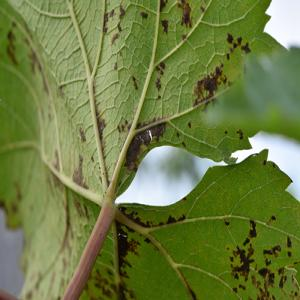Fungo: (122, 30, 251, 176), (228, 218, 299, 300), (191, 31, 251, 110), (124, 119, 165, 175), (92, 77, 109, 187), (192, 60, 227, 110), (103, 3, 125, 46), (230, 244, 254, 281), (124, 133, 144, 174), (225, 31, 251, 60), (72, 153, 89, 189), (177, 0, 193, 28), (6, 29, 18, 66), (263, 244, 281, 266), (147, 122, 166, 142), (242, 220, 257, 245), (154, 61, 166, 92), (192, 78, 205, 105), (215, 60, 228, 87), (102, 8, 115, 34), (203, 74, 217, 96), (110, 22, 122, 46), (139, 128, 152, 147), (117, 118, 128, 132), (249, 220, 257, 238), (155, 61, 165, 75), (251, 273, 260, 288), (286, 235, 292, 257), (241, 41, 251, 54), (78, 126, 86, 142), (267, 269, 275, 285), (265, 214, 276, 225), (258, 266, 268, 278), (161, 18, 168, 34), (110, 32, 118, 46), (278, 274, 286, 288), (103, 12, 108, 34), (263, 244, 272, 256), (247, 243, 254, 257), (118, 4, 125, 18), (226, 32, 234, 44), (236, 128, 244, 140), (132, 75, 138, 90), (155, 76, 161, 91), (160, 0, 167, 12), (242, 236, 250, 246), (286, 236, 292, 248), (264, 256, 271, 266), (215, 66, 222, 76), (147, 128, 152, 141), (140, 10, 148, 18), (236, 35, 242, 45), (222, 74, 227, 86), (116, 22, 122, 32), (108, 8, 114, 18), (155, 64, 161, 74), (238, 283, 246, 290), (160, 60, 165, 70), (181, 32, 187, 40), (189, 16, 193, 28), (232, 41, 238, 49), (232, 286, 238, 293), (200, 4, 205, 12), (112, 60, 116, 70), (224, 219, 229, 226), (187, 120, 191, 128), (219, 60, 223, 68), (181, 140, 186, 146), (229, 46, 234, 52), (287, 250, 292, 256), (226, 52, 230, 59), (156, 94, 161, 99), (263, 159, 266, 165), (176, 131, 179, 137), (119, 50, 122, 56), (224, 130, 228, 134), (272, 163, 275, 167)
